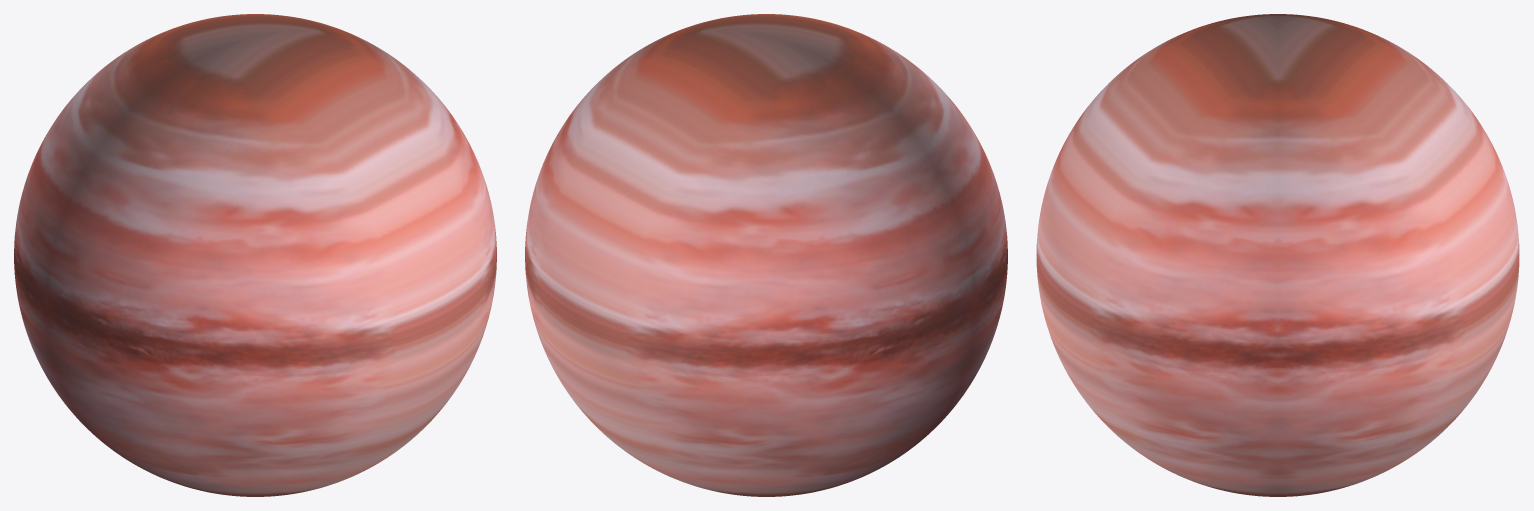
The picture shows the model from 3 angles, left to right: view 1: azimuth 30°, elevation 25°; view 2: azimuth 150°, elevation 25°; view 3: azimuth 270°, elevation 25°; orthographic projection.
Parts seen in each view (by area): view 1: HR_8799_b; view 2: HR_8799_b; view 3: HR_8799_b.
Part boxes in pixels (x1=…): HR_8799_b: x1=14, y1=14, x2=496, y2=496; HR_8799_b: x1=525, y1=14, x2=1007, y2=496; HR_8799_b: x1=1036, y1=14, x2=1519, y2=496.
Bounding box in the file's own units: 2 × 2 × 2.
1 material, 1 textured.
